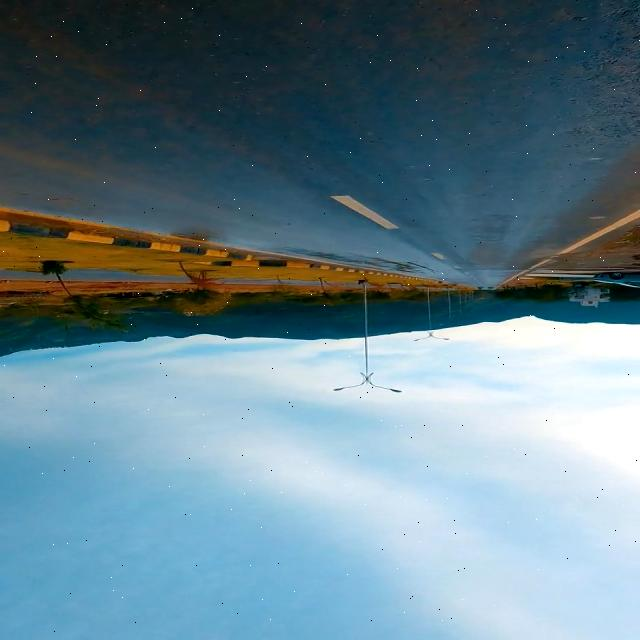lane: (552, 210, 640, 259), (332, 196, 398, 229), (499, 259, 552, 287)
road: (2, 1, 638, 287)
